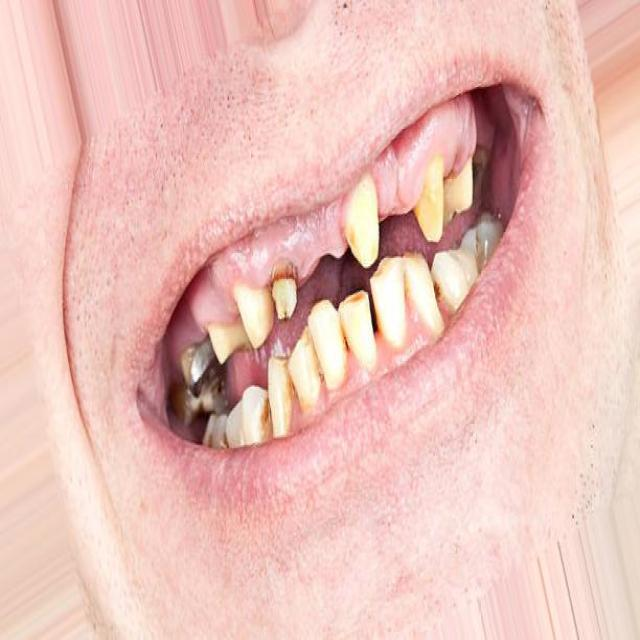caries: (177, 339, 226, 422), (343, 178, 386, 270), (422, 155, 456, 245), (264, 257, 306, 319), (257, 394, 280, 446)
